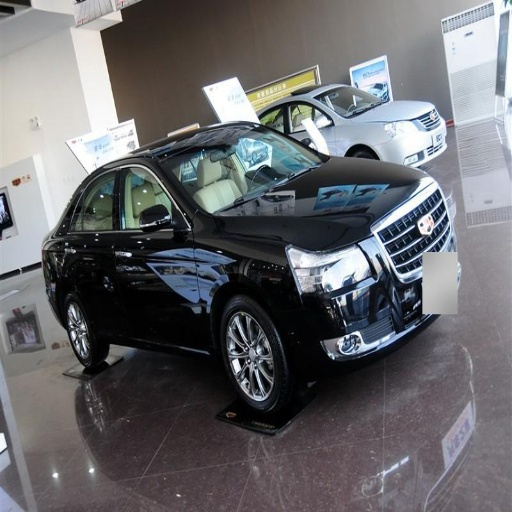front_right_door: (114, 166, 203, 344)
front_right_light: (287, 248, 355, 293)
